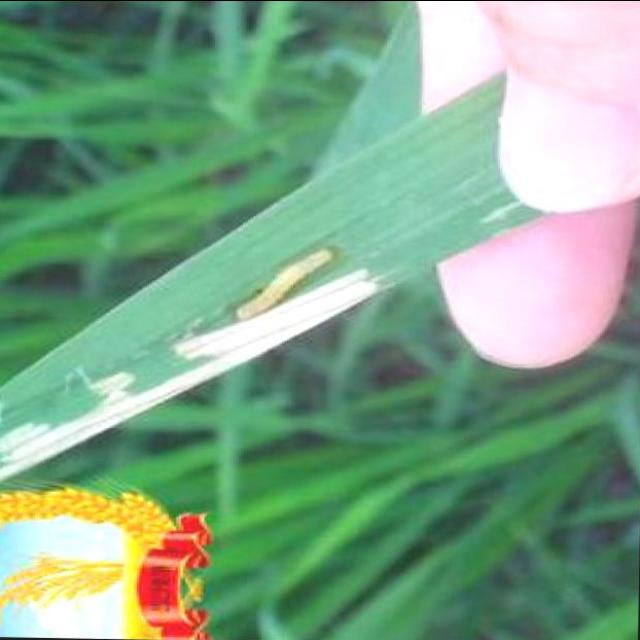leaf folder: (237, 248, 332, 316)
